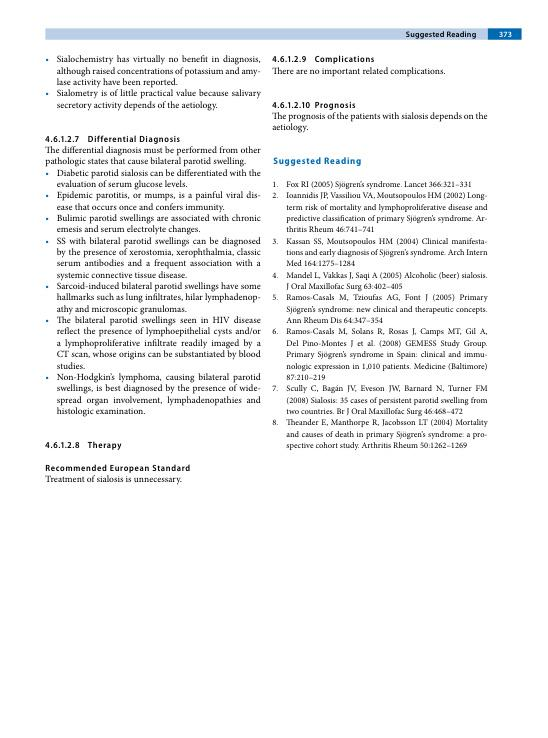header: (405, 30, 477, 40)
list: (270, 179, 488, 452), (44, 168, 261, 417), (44, 53, 263, 112)
section-heading: (272, 155, 363, 168)
sub-section-heading: (87, 134, 181, 145), (314, 54, 375, 65), (314, 100, 357, 111), (86, 441, 122, 451)
text: (271, 111, 488, 134), (43, 145, 262, 167), (45, 463, 191, 486), (271, 66, 446, 78)
